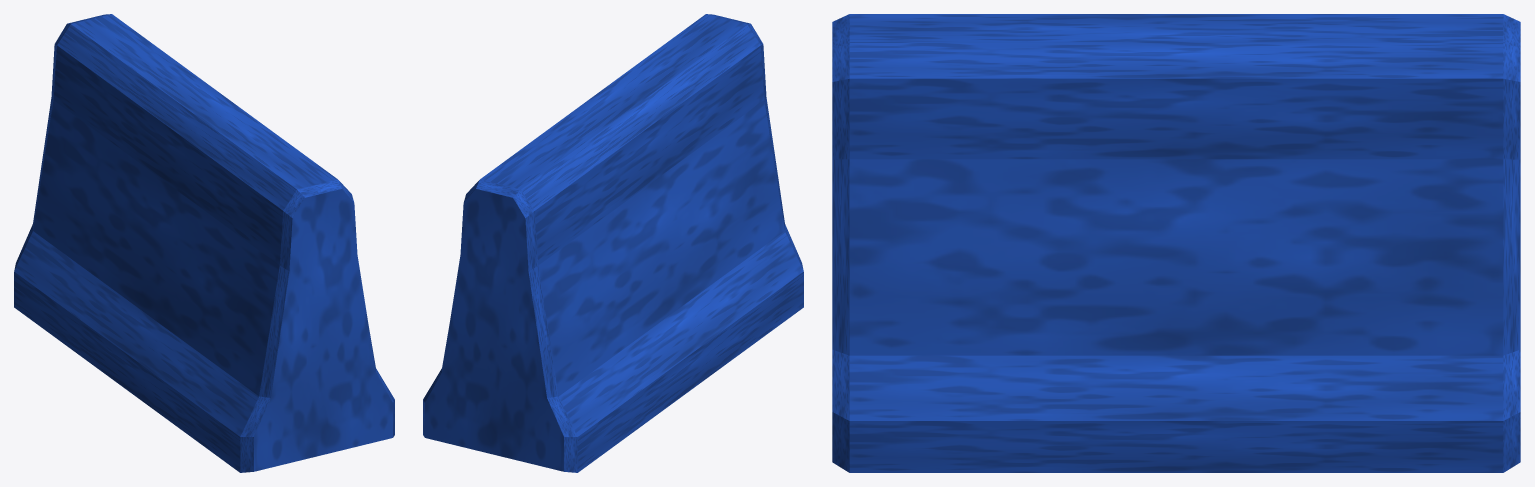
Rendered from SM_Morin_NJPlastica_Blu_LOD1.fbx.
3 renders of one model, left to right at view 1: azimuth 30°, elevation 25°; view 2: azimuth 150°, elevation 25°; view 3: azimuth 270°, elevation 25°, orthographic. The views are drawn at different scales.
Visible parts, largest first — view 1: SM_Morin_NJPlastica_Blu_LOD1; view 2: SM_Morin_NJPlastica_Blu_LOD1; view 3: SM_Morin_NJPlastica_Blu_LOD1.
Boxes of the visible parts, x1,y1,x2,y2 form: SM_Morin_NJPlastica_Blu_LOD1: (14,14,394,472); SM_Morin_NJPlastica_Blu_LOD1: (423,14,803,472); SM_Morin_NJPlastica_Blu_LOD1: (832,14,1520,472).
Bounding box in the file's own units: 45 × 120 × 75.
1 material, 1 textured.
